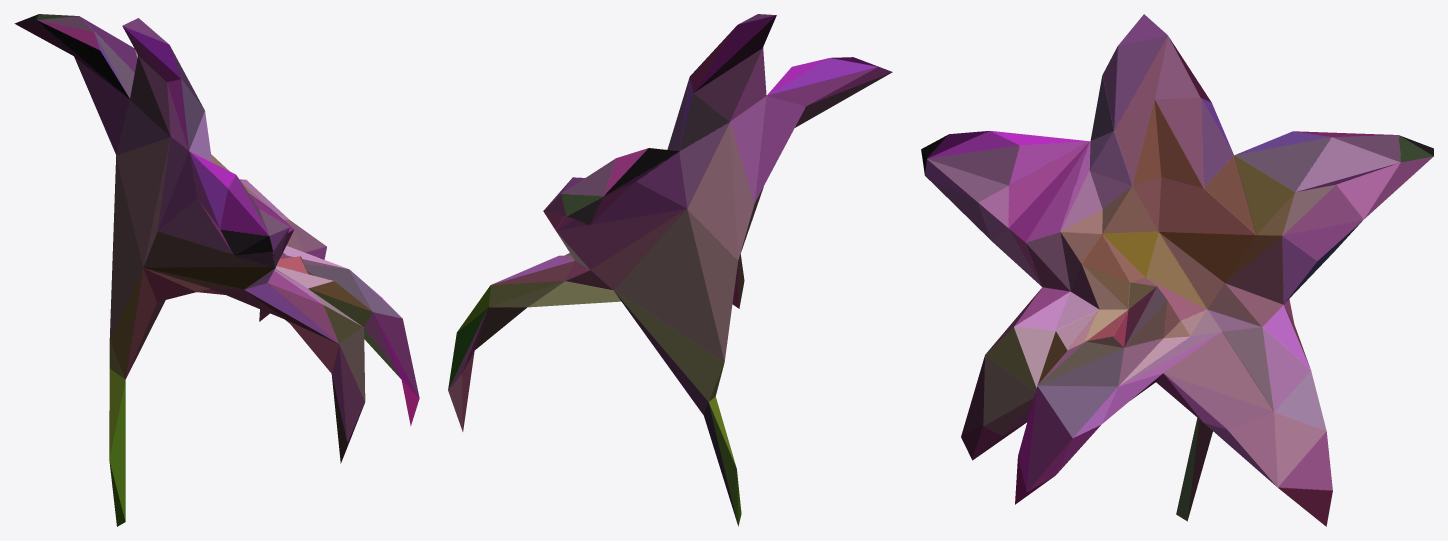
The model's file is lily.fbx.
The picture shows the model from 3 angles, left to right: view 1: azimuth 30°, elevation 25°; view 2: azimuth 150°, elevation 25°; view 3: azimuth 270°, elevation 25°; orthographic projection. The views are drawn at different scales.
Visible parts, largest first — view 1: Mesh_0; view 2: Mesh_0; view 3: Mesh_0.
Boxes of the visible parts, x1,y1,x2,y2 form: Mesh_0: (14, 14, 419, 526); Mesh_0: (448, 14, 892, 526); Mesh_0: (921, 14, 1433, 526).
Size of the model in its own units: 63.28 by 119 by 111.
Materials: 1 (1 with a texture image).
